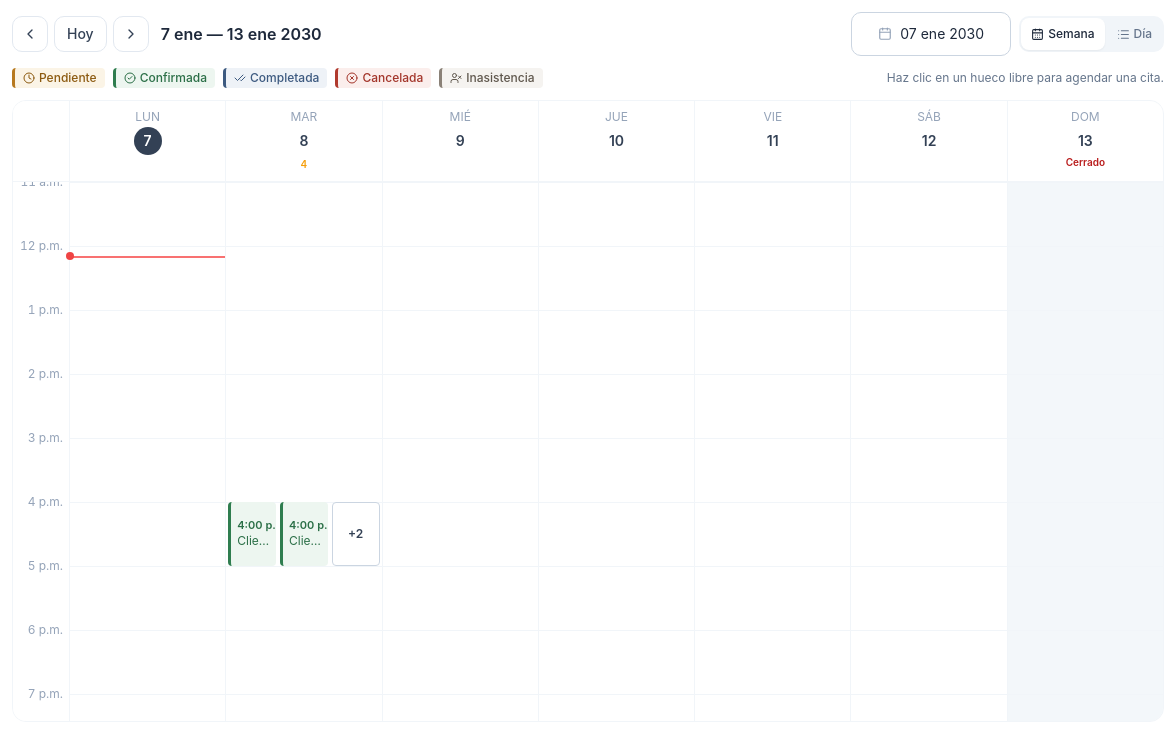
it: CalendarioCitas — citas encimadas en Semana (I2) › con más de tres encimadas, deja dos y agrupa el resto en '+N' que abre el día
The width and height of the screenshot is (1176, 732).
(page scrolled)
Check: the button with aria-label "Cliente a," is shown, box [228,502,276,566]
Check: the number of buttons "4:00 p.m. Cliente" is 2, box [228,502,276,566]; [280,502,328,566]
Click the button named "2 citas más" at x=356, y=534, box [332,502,380,566]
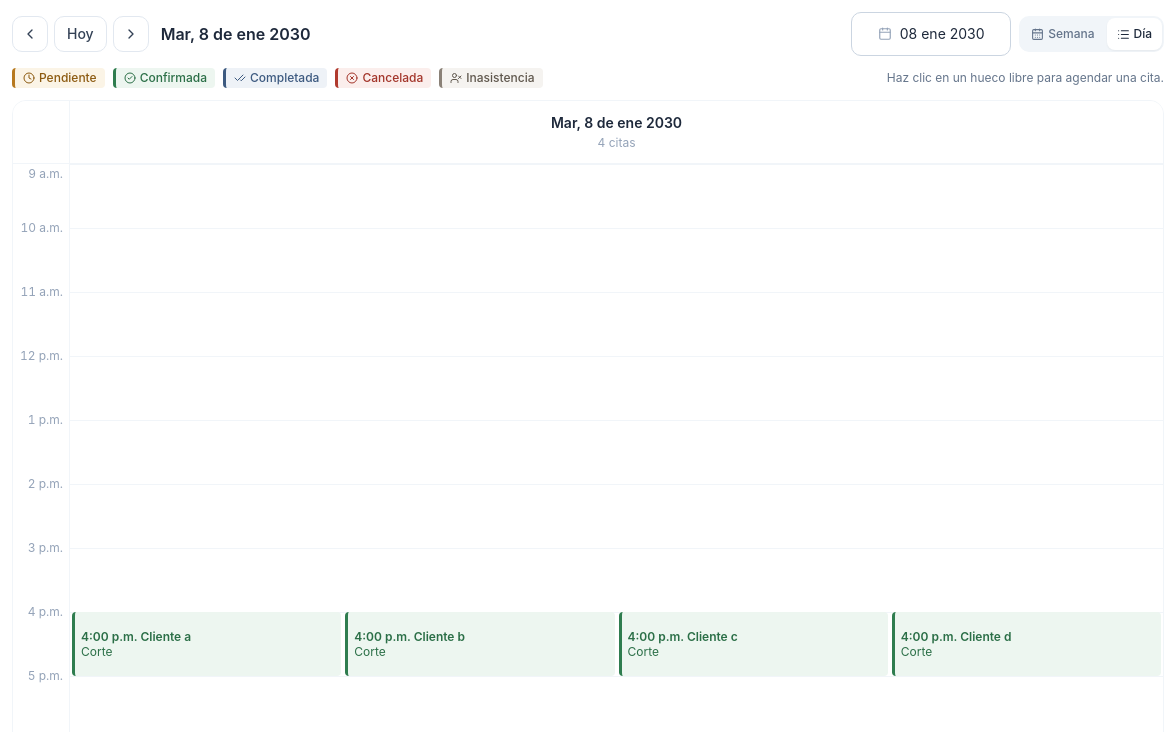
Check: the number of buttons "4:00 p.m. Cliente a Corte" is 4, box [72,612,341,676]; [345,612,615,676]; [618,612,888,676]; [892,612,1161,676]
